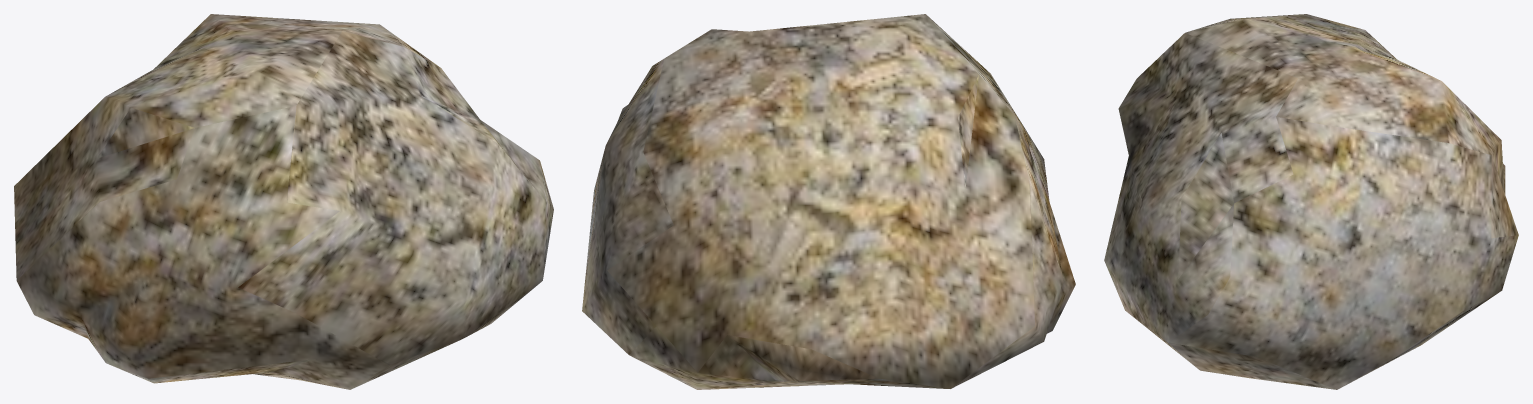
Rendered from granite-high.glb.
3 views of the same model, side by side, from view 1: azimuth 30°, elevation 25°; view 2: azimuth 150°, elevation 25°; view 3: azimuth 270°, elevation 25° (orthographic). The views are drawn at different scales.
Parts seen in each view (by area): view 1: Granite; view 2: Granite; view 3: Granite.
Part boxes in pixels (bbox=[...]): Granite: bbox=[14, 14, 553, 389]; Granite: bbox=[582, 14, 1075, 389]; Granite: bbox=[1104, 14, 1518, 389].
Bounding box in the file's own units: 0.9559 × 0.6372 × 0.8182.
Materials: 1 (1 with a texture image).
